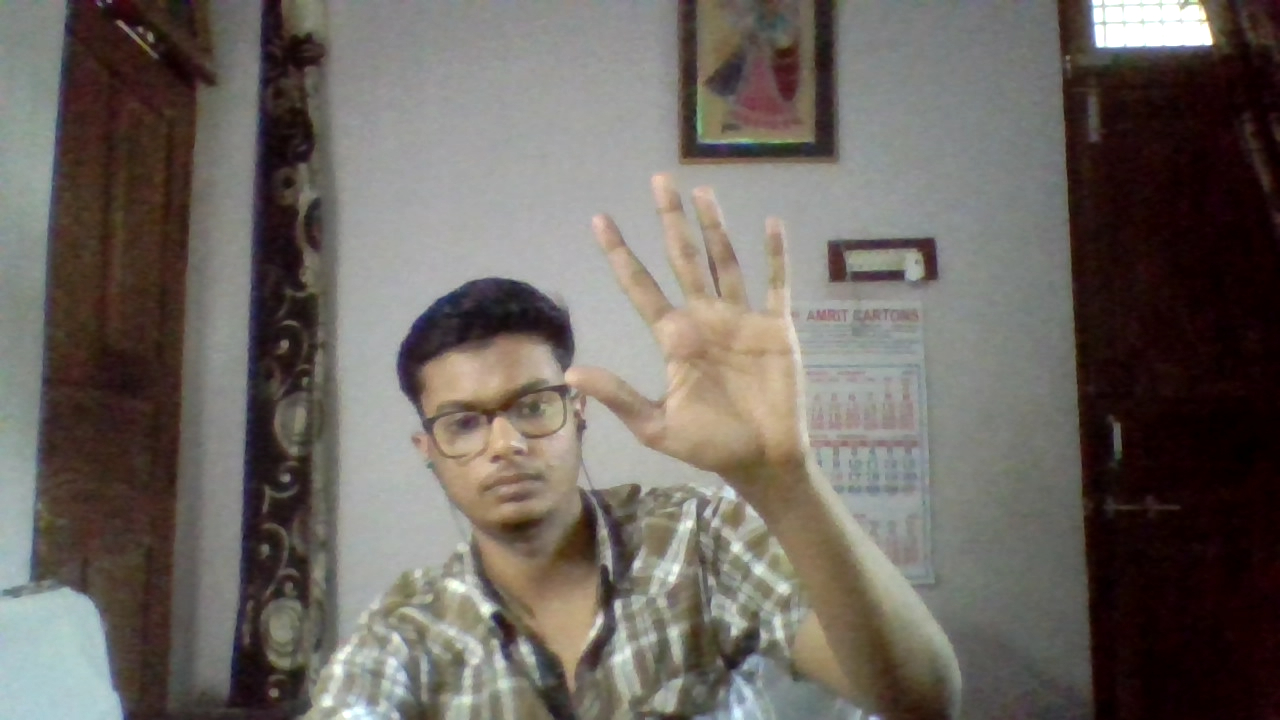five: (555, 160, 839, 487)
